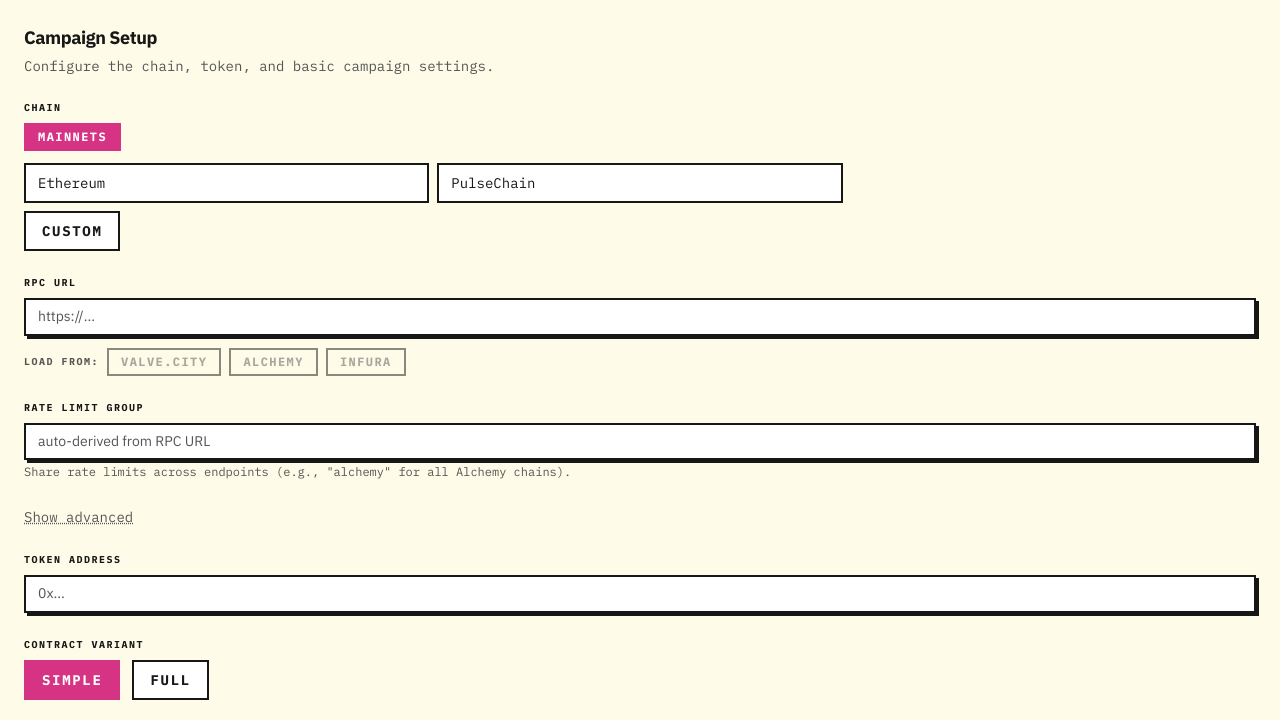
Test: CampaignStep › hides explorer fields when Hide advanced is clicked
Click the button "Show advanced" at [79, 517], box [24, 507, 133, 527]
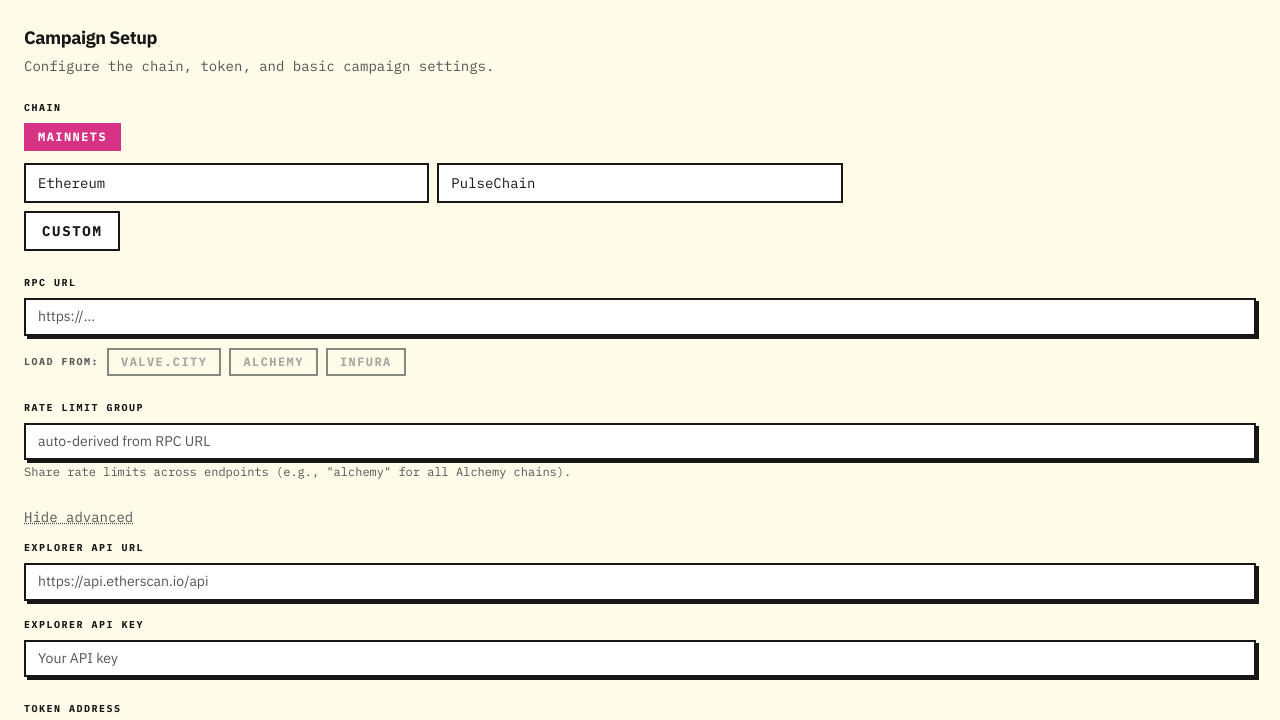
Click the button "Hide advanced" at [79, 517], box [24, 507, 133, 527]
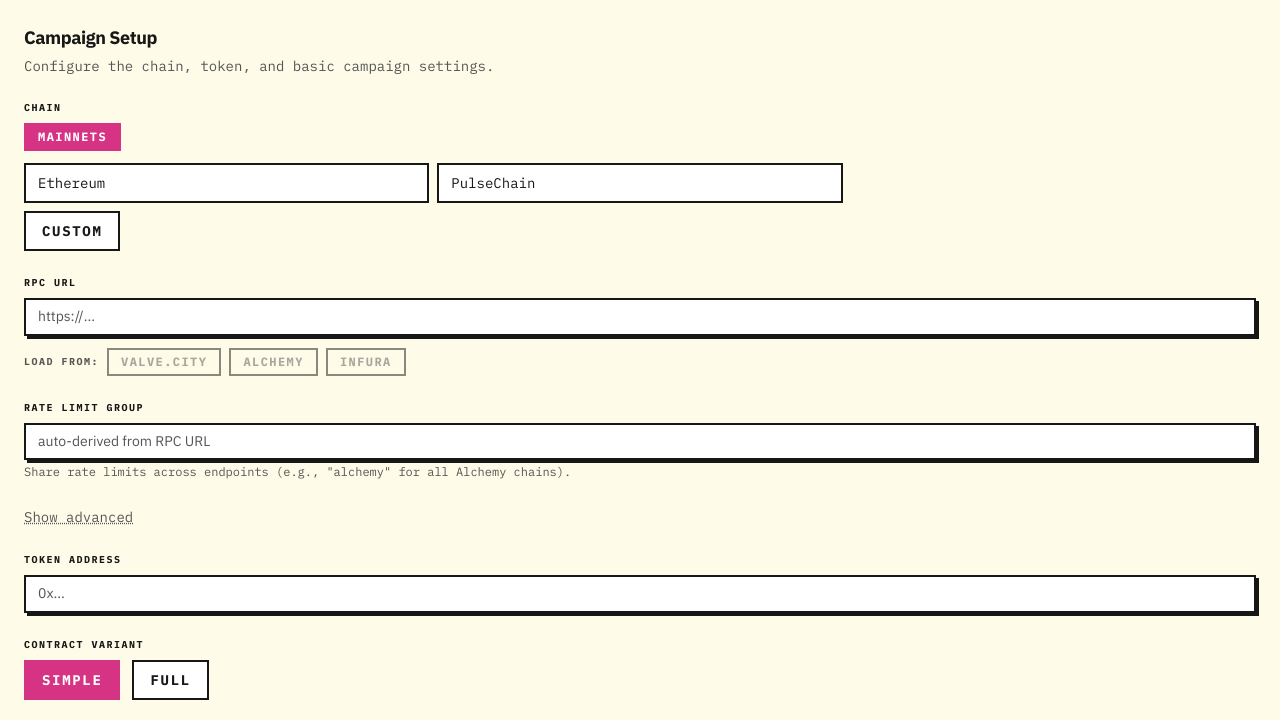
Expected: the field with placeholder "https://api.etherscan.io/api" is not shown
Result: the button "Show advanced" is shown at [24, 507, 133, 527]
